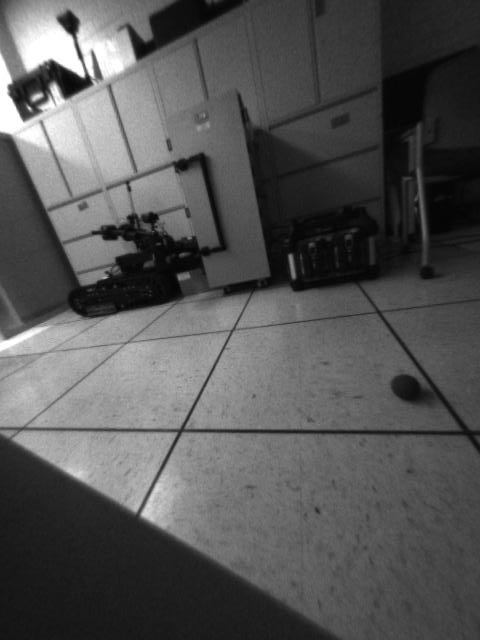dogtoy: (387, 366, 427, 406)
